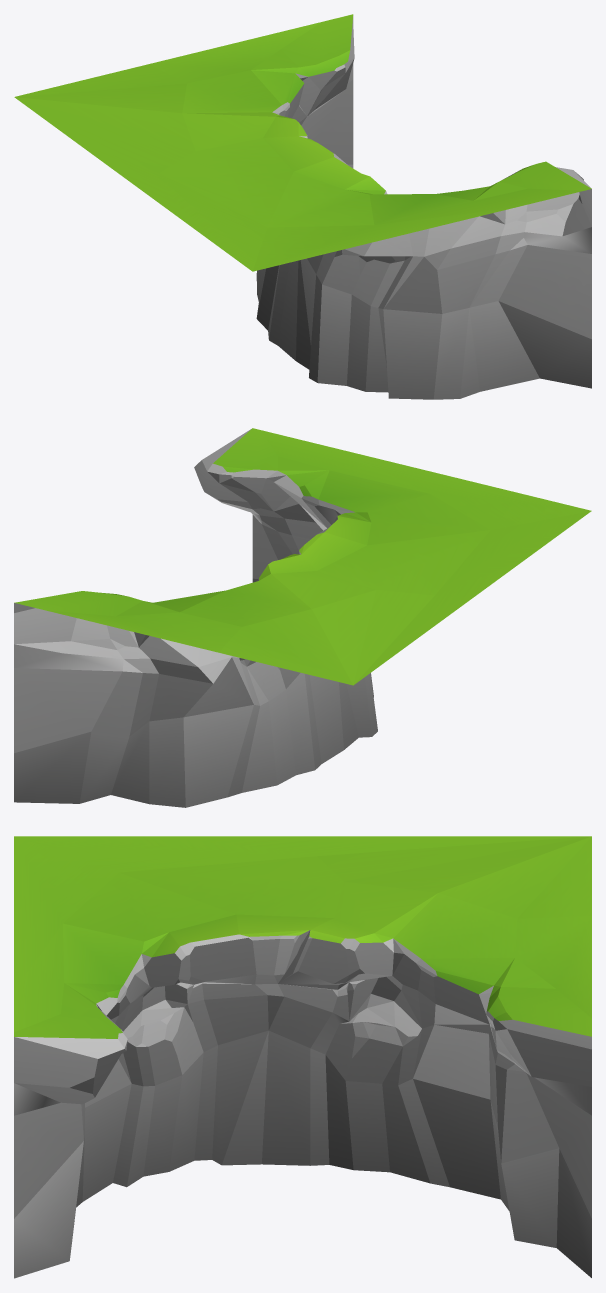
File: Cliff_Plateau2.fbx
3 renders of one model, top to bottom at view 1: azimuth 30°, elevation 25°; view 2: azimuth 150°, elevation 25°; view 3: azimuth 270°, elevation 25°, orthographic. The views are drawn at different scales.
Visible parts, largest first — view 1: Cliff_Plateau2; view 2: Cliff_Plateau2; view 3: Cliff_Plateau2.
Boxes of the visible parts, box(x1,y1,x2,y2) form: Cliff_Plateau2: box(14, 14, 591, 399); Cliff_Plateau2: box(14, 428, 591, 807); Cliff_Plateau2: box(14, 836, 591, 1278).
Bounding box in the file's own units: 56.16 × 30.13 × 63.66.
